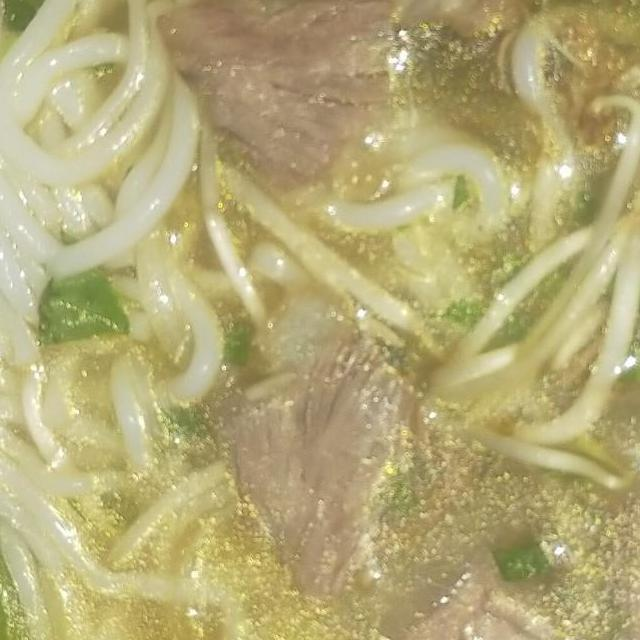bun: (0, 0, 317, 640)
bun bo: (0, 0, 640, 640)
thit bo: (149, 0, 538, 209), (194, 322, 459, 604), (361, 485, 615, 640)
